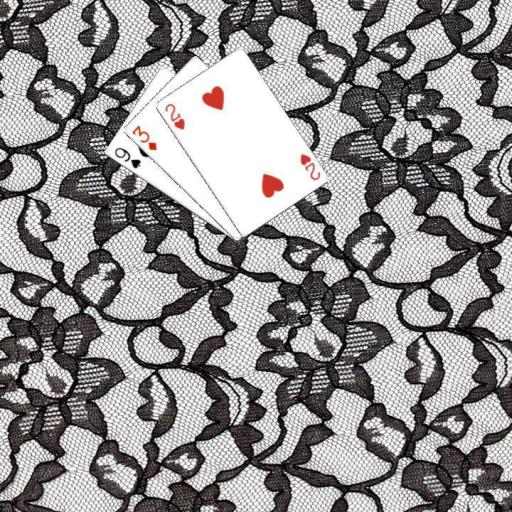card-corner: (128, 122, 159, 152), (296, 150, 322, 182), (111, 144, 142, 170), (162, 100, 186, 132)
